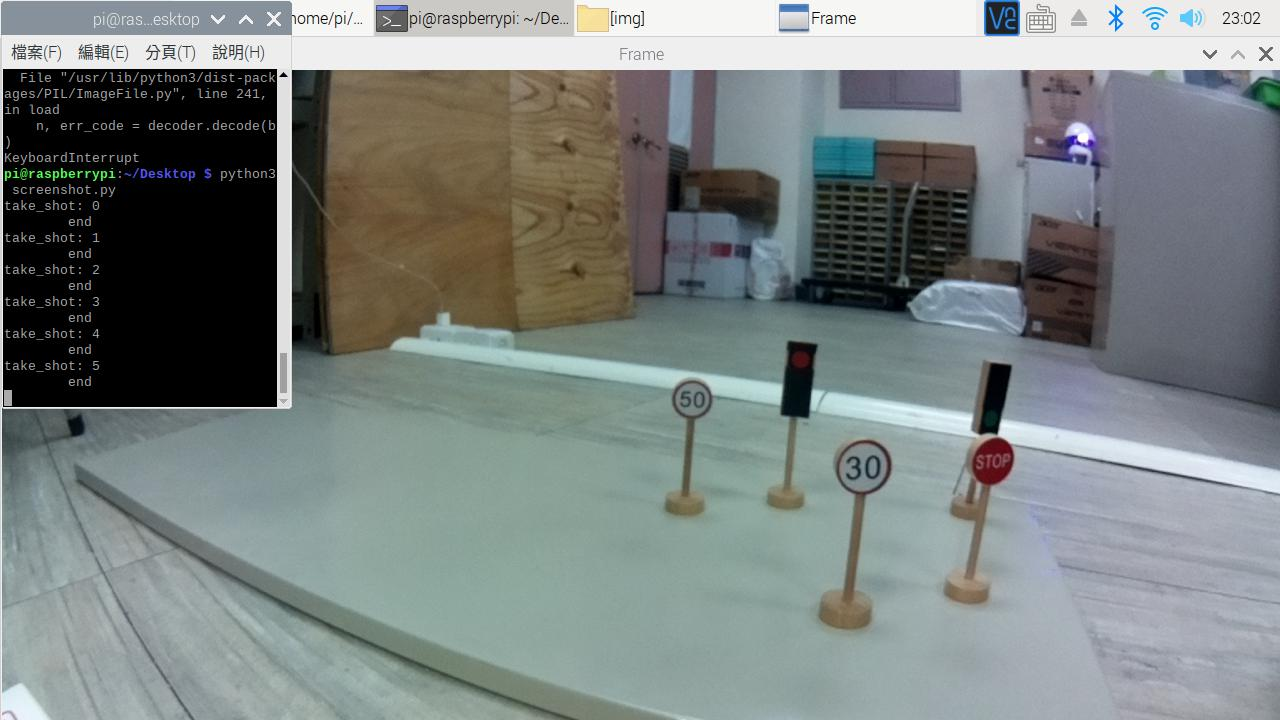Green: (983, 359, 1001, 438)
Red: (783, 336, 810, 421)
Speed30: (833, 439, 896, 495)
Speed50: (670, 378, 712, 420)
Stop: (968, 439, 1014, 486)
